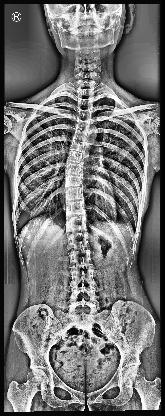Vertebrae: (69, 267, 95, 285), (68, 251, 94, 267), (72, 286, 98, 302), (71, 299, 97, 315), (66, 234, 90, 250), (64, 202, 86, 216), (66, 218, 88, 232), (68, 139, 86, 156), (66, 150, 86, 164), (64, 187, 84, 201), (63, 174, 83, 186), (75, 108, 92, 122), (72, 130, 90, 142), (65, 162, 83, 174), (75, 119, 91, 130)
